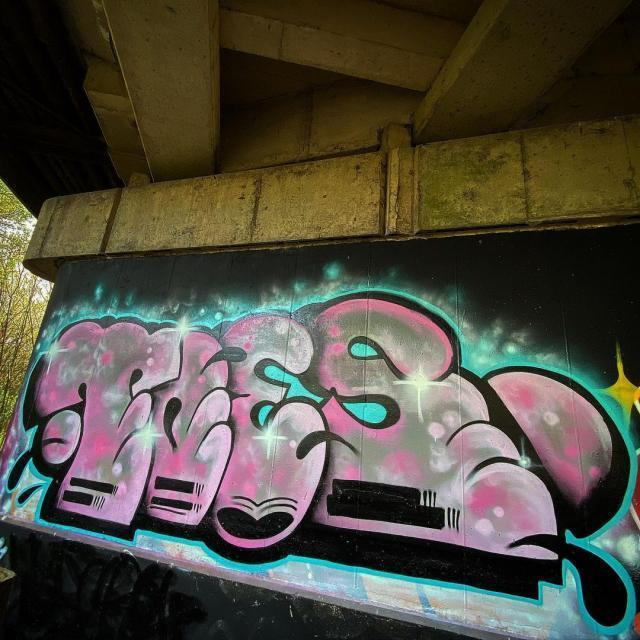nonspitting: (32, 289, 635, 631)
